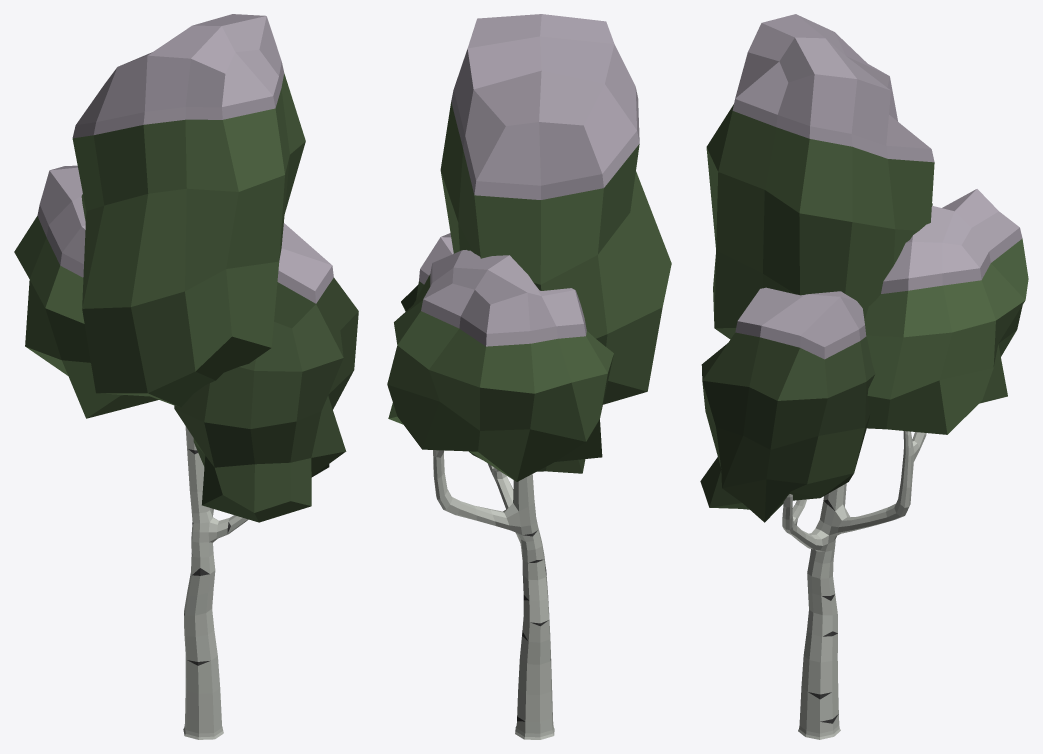
Rendered from BirchTree_Snow_3.gltf.
3 views of the same model, side by side, from view 1: azimuth 30°, elevation 25°; view 2: azimuth 150°, elevation 25°; view 3: azimuth 270°, elevation 25° (orthographic). The views are drawn at different scales.
Parts seen in each view (by area): view 1: BirchTree_Snow_3; view 2: BirchTree_Snow_3; view 3: BirchTree_Snow_3.
Boxes of the visible parts, box(x1,y1,x2,y2) form: BirchTree_Snow_3: box(14, 14, 358, 739); BirchTree_Snow_3: box(387, 14, 671, 739); BirchTree_Snow_3: box(700, 14, 1028, 739).
Bounding box in the file's own units: 1.57 × 4.15 × 1.77.
